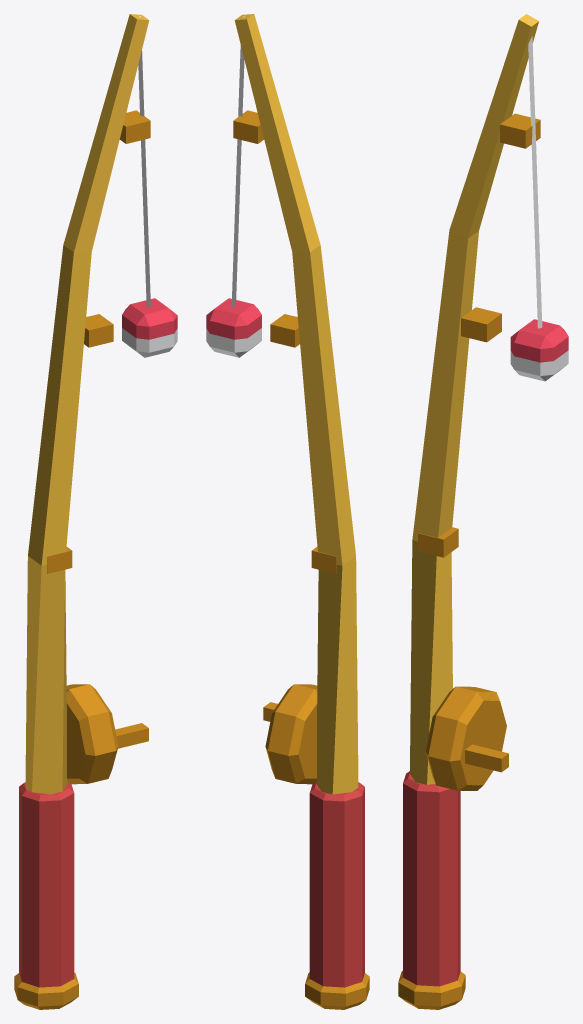
Rendered from GoldFishingRod.fbx.
3 renders of one model, left to right at view 1: azimuth 30°, elevation 25°; view 2: azimuth 150°, elevation 25°; view 3: azimuth 330°, elevation 25°, orthographic. The views are drawn at different scales.
Visible parts, largest first — view 1: GoldFishingRod; view 2: GoldFishingRod; view 3: GoldFishingRod.
Part boxes in pixels (bbox=[...]): GoldFishingRod: bbox=[14, 14, 177, 1009]; GoldFishingRod: bbox=[206, 14, 369, 1009]; GoldFishingRod: bbox=[398, 14, 568, 1009].
Size of the model in its own units: 0.74 by 4.45 by 0.44.
Materials: 1 (1 with a texture image).
